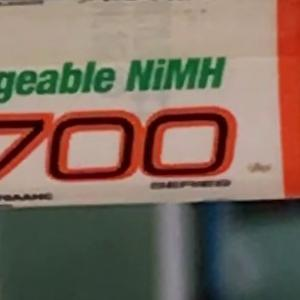keyword: (116, 47, 235, 101)
